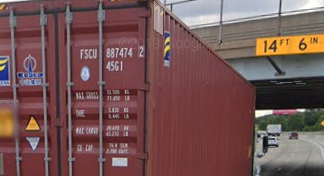1: (261, 39, 267, 53)
4: (266, 37, 278, 54)
6: (293, 35, 309, 54)
overheadsign: (255, 33, 324, 56)
